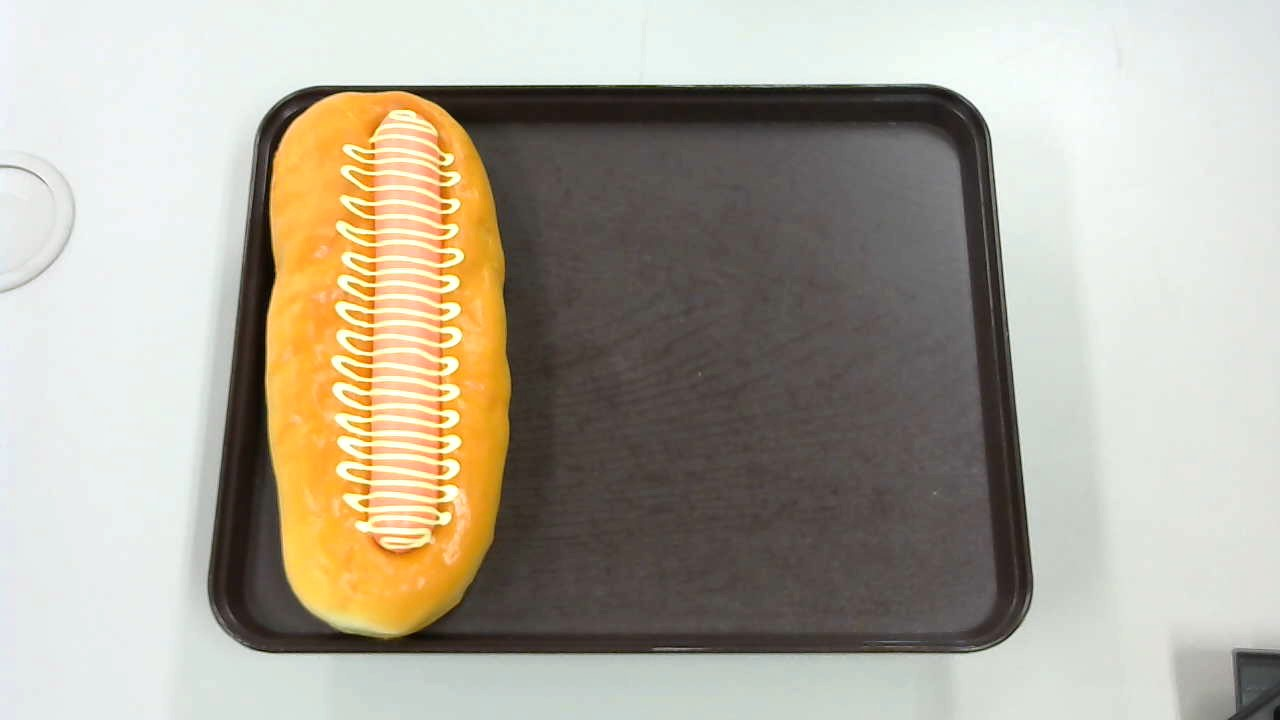hot dog: (264, 92, 509, 641)
